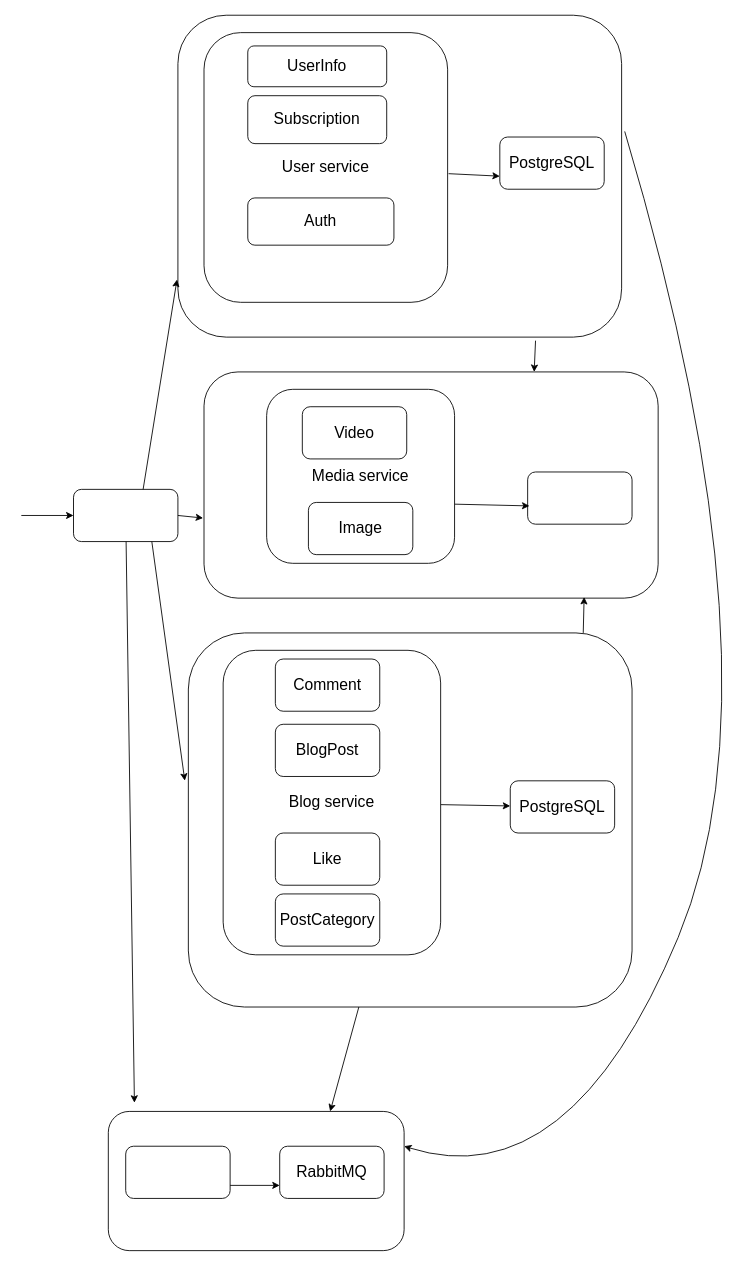
Image size: 738x1266. Some labels were removed from this diagram. Here are the shapes that lost their labels. From the top down, the centre of each, then its label:
At point 125,515: "Gateway".
At point 579,497: "Object storage(s3)".
At point 177,1171: "Mail service".
